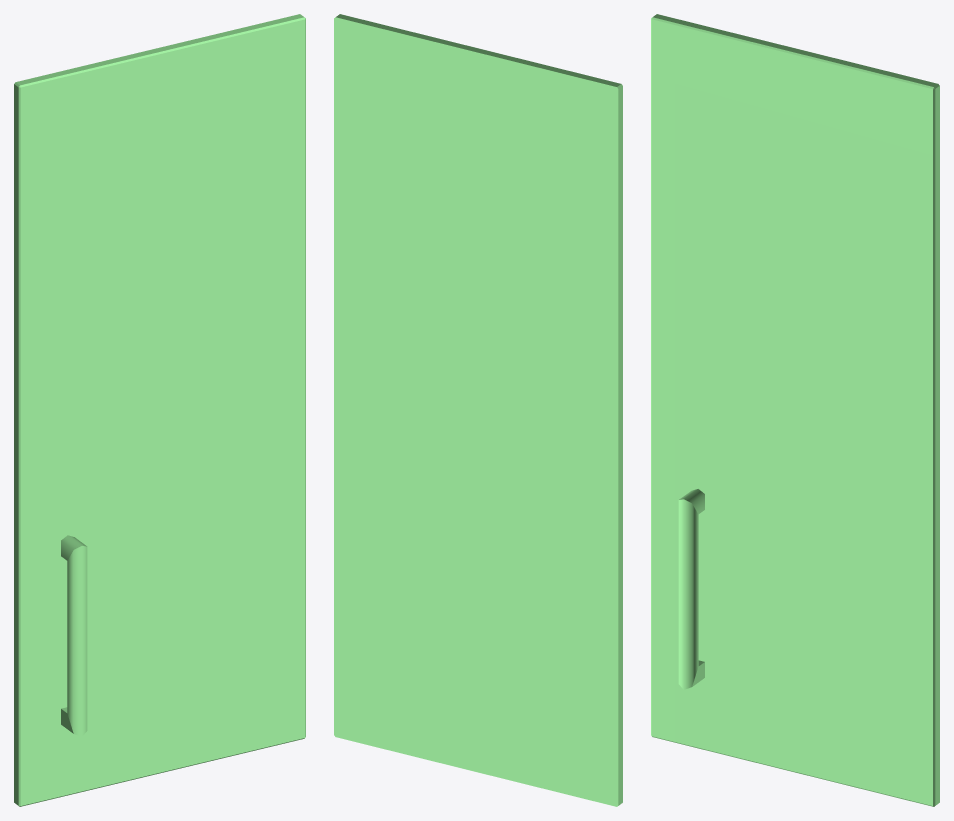
Rendered from RFAIPP_Kitchen_Cabinet_Door_Up_Right.FBX.
3 renders of one model, left to right at view 1: azimuth 30°, elevation 25°; view 2: azimuth 150°, elevation 25°; view 3: azimuth 330°, elevation 25°, orthographic.
Parts seen in each view (by area): view 1: RFAIPP_Kitchen_Cabinet_Door_Up_Right; view 2: RFAIPP_Kitchen_Cabinet_Door_Up_Right; view 3: RFAIPP_Kitchen_Cabinet_Door_Up_Right.
Part boxes in pixels (x1,y1,x2,y2): RFAIPP_Kitchen_Cabinet_Door_Up_Right: (14, 14, 305, 806); RFAIPP_Kitchen_Cabinet_Door_Up_Right: (334, 14, 622, 806); RFAIPP_Kitchen_Cabinet_Door_Up_Right: (651, 14, 939, 806).
Size of the model in its own units: 0.2998 by 0.7222 by 0.036.
